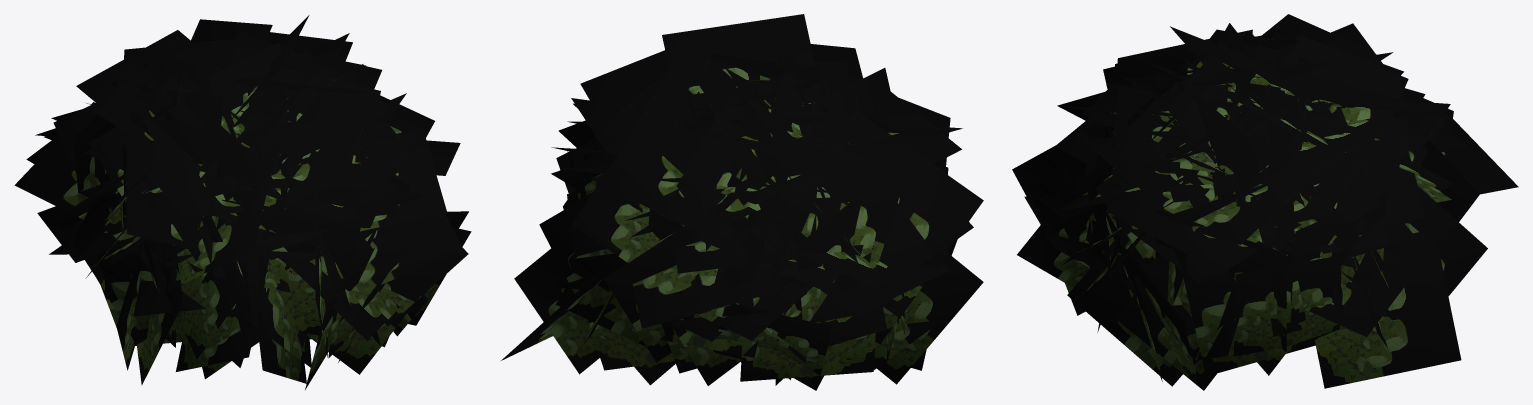
Rendered from bush_mastic.glb.
The picture shows the model from 3 angles, left to right: view 1: azimuth 30°, elevation 25°; view 2: azimuth 150°, elevation 25°; view 3: azimuth 270°, elevation 25°; orthographic projection. The views are drawn at different scales.
Parts seen in each view (by area): view 1: bush_leaves; view 2: bush_leaves; view 3: bush_leaves.
Part boxes in pixels (x1,y1,x2,y2): bush_leaves: [14, 15, 471, 389]; bush_leaves: [501, 14, 983, 390]; bush_leaves: [1012, 14, 1518, 390].
Bounding box in the file's own units: 2.29 × 1.72 × 2.58.
Materials: 2 (2 with a texture image).
